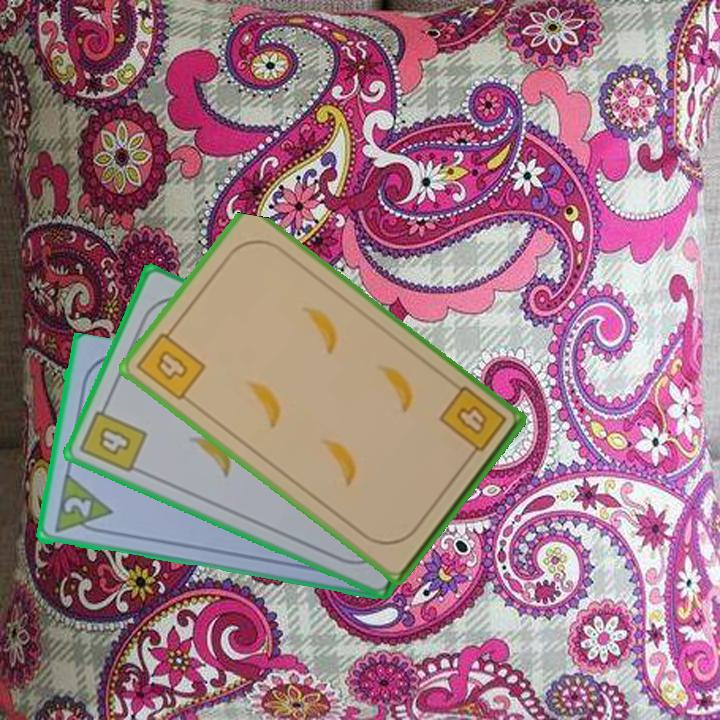2p: (50, 473, 114, 538)
4b: (132, 322, 209, 404), (435, 382, 509, 464), (76, 397, 150, 476)
